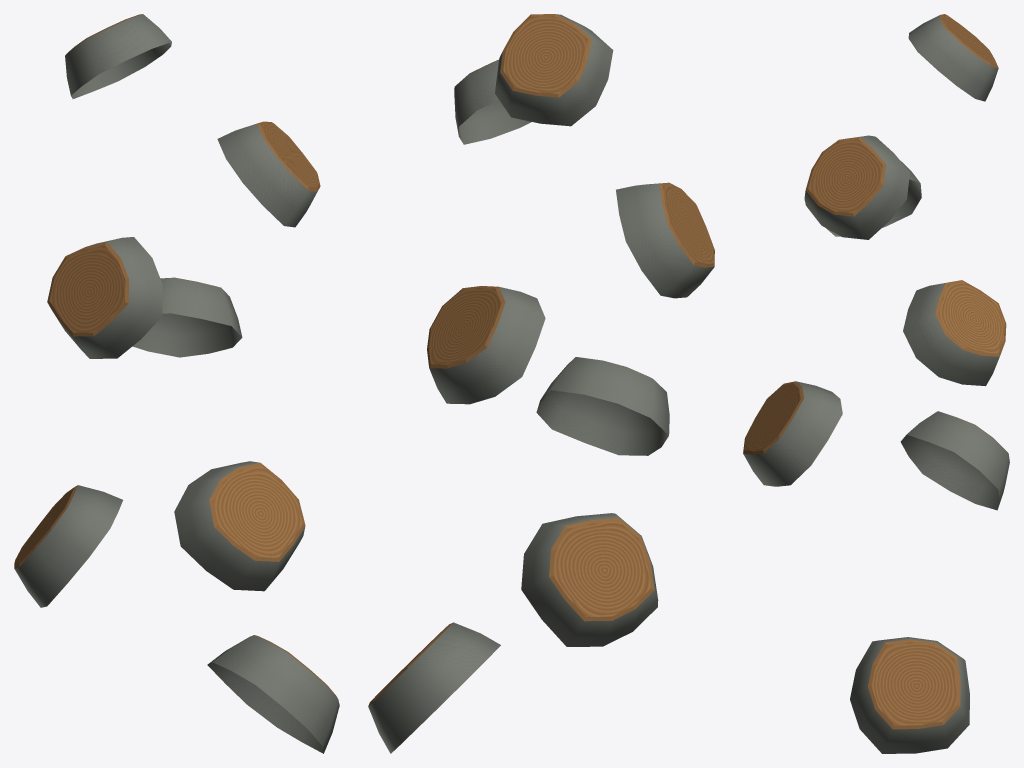
Rendered from Beech_Mature_01_MediumPruned_Recent_LOD2.fbx.
The picture shows the model from 3 angles, left to right: view 1: azimuth 30°, elevation 25°; view 2: azimuth 150°, elevation 25°; view 3: azimuth 270°, elevation 25°; orthographic projection. The views are drawn at different scales.
Parts seen in each view (by area): view 1: Beech_Mature_01_MediumPruned_Recent_LOD2_Scars; view 2: Beech_Mature_01_MediumPruned_Recent_LOD2_Scars; view 3: Beech_Mature_01_MediumPruned_Recent_LOD2_Scars.
Boxes of the visible parts, left/top/right/bottom form: Beech_Mature_01_MediumPruned_Recent_LOD2_Scars: left=14, top=14, right=339, bottom=753; Beech_Mature_01_MediumPruned_Recent_LOD2_Scars: left=368, top=14, right=714, bottom=753; Beech_Mature_01_MediumPruned_Recent_LOD2_Scars: left=743, top=14, right=1009, bottom=753.
Size of what is drawn, in the model's own units: 151 by 371 by 135.
2 materials, 2 textured.
